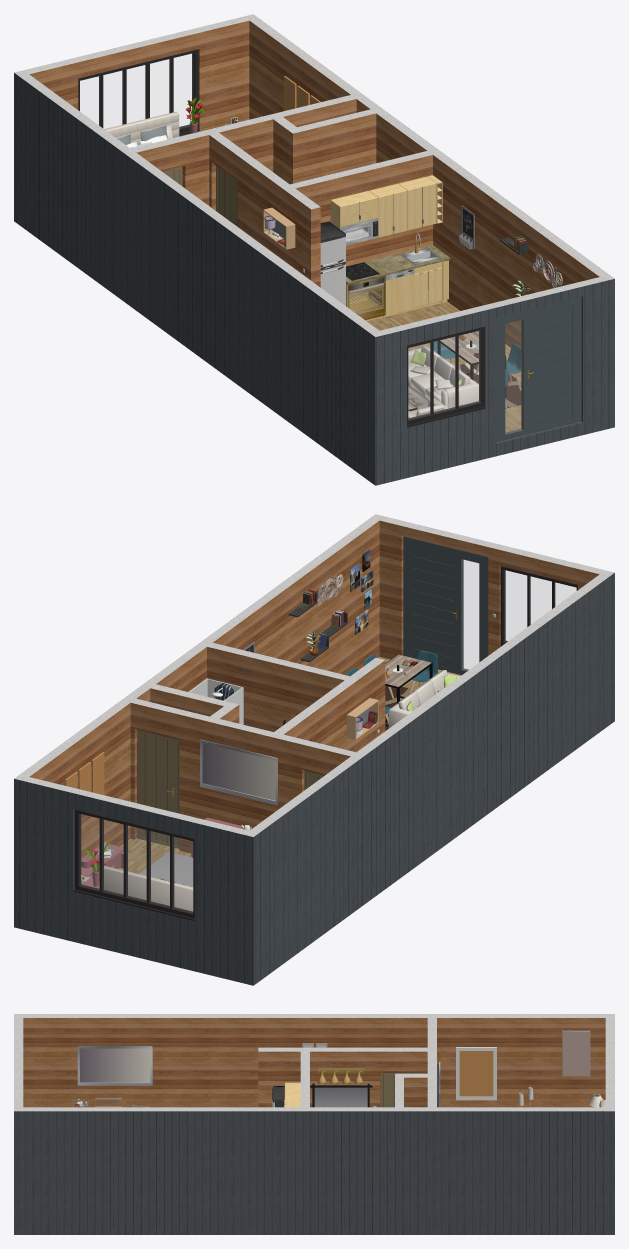
File: mobile_home.glb
3 renders of one model, top to bottom at view 1: azimuth 30°, elevation 25°; view 2: azimuth 150°, elevation 25°; view 3: azimuth 270°, elevation 25°, orthographic. The views are drawn at different scales.
Parts seen in each view (by area): view 1: Object_70, Object_4, Object_20, Object_57, Object_54, Object_109, Object_62, Object_101, Object_85, Object_48, Object_50, Object_73 (+7 smaller); view 2: Object_70, Object_4, Object_20, Object_57, Object_54, Object_62, Object_69, Object_83, Object_50, Object_85, Object_101, Object_36 (+6 smaller); view 3: Object_70, Object_4, Object_20, Object_83, Object_46, Object_41, Object_77, Object_84, Object_56, Object_73, Object_69, Object_109 (+1 smaller).
Part boxes in pixels (x1,y1,x2,y2): Object_70: (14, 73, 614, 485); Object_4: (29, 20, 599, 347); Object_20: (14, 14, 614, 336); Object_57: (80, 54, 521, 433); Object_54: (496, 297, 581, 442); Object_109: (330, 175, 448, 321); Object_62: (78, 49, 485, 427); Object_101: (408, 345, 478, 418); Object_85: (367, 301, 521, 432); Object_48: (268, 229, 345, 305); Object_50: (104, 111, 459, 408); Object_73: (347, 241, 533, 380); Object_70: (14, 573, 614, 985); Object_4: (29, 520, 599, 857); Object_20: (14, 514, 614, 836); Object_57: (80, 560, 576, 911); Object_54: (403, 536, 488, 674); Object_62: (73, 566, 577, 921); Object_69: (137, 729, 324, 848); Object_83: (202, 742, 275, 801); Object_50: (104, 842, 193, 911); Object_85: (118, 656, 461, 873); Object_101: (388, 670, 460, 728); Object_36: (138, 668, 388, 886); Object_70: (14, 1111, 614, 1234); Object_4: (23, 1018, 605, 1107); Object_20: (14, 1014, 614, 1111); Object_83: (80, 1048, 150, 1082); Object_46: (459, 1051, 530, 1106); Object_41: (562, 1030, 590, 1076); Object_77: (314, 1087, 367, 1107); Object_84: (77, 1046, 440, 1107); Object_56: (456, 1047, 496, 1100); Object_73: (318, 1068, 364, 1083); Object_69: (381, 1072, 422, 1107); Object_109: (284, 1082, 300, 1107).
Bounding box in the file's own units: 4.98 × 2.95 × 13.
Materials: 100 (81 with a texture image).
